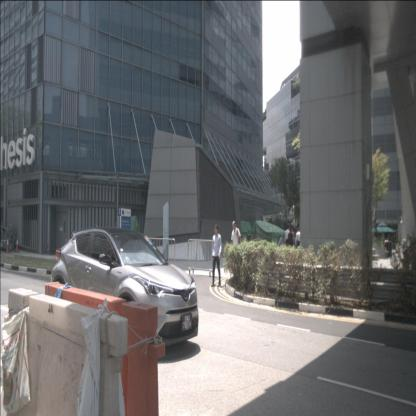human-pedestrian-adult: (230, 221, 242, 280), (211, 225, 222, 287), (284, 225, 290, 259), (288, 226, 294, 259), (295, 227, 301, 259), (292, 228, 298, 255), (290, 228, 295, 258)
movable_object-barrier: (59, 288, 166, 416), (24, 294, 128, 416), (6, 290, 40, 415)
movable_object-trafficcone: (6, 236, 9, 252), (16, 238, 18, 251)
vehicle-bicycle: (390, 235, 416, 269)
vehicle-car: (51, 226, 199, 350)
